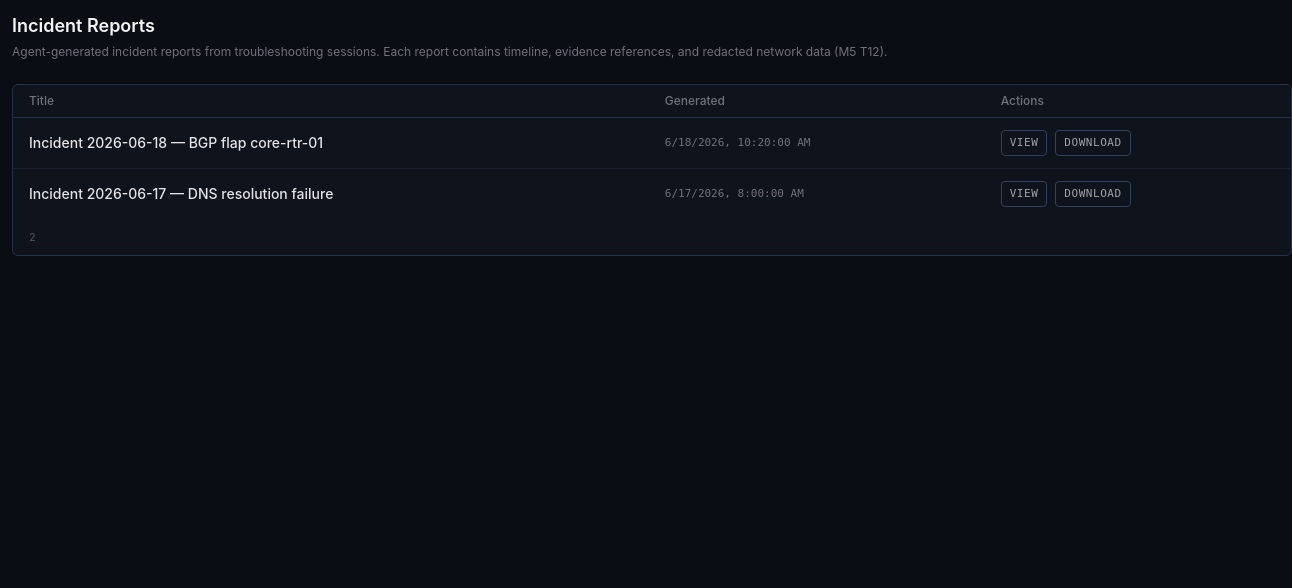
Test: IncidentReportsPage — inline view › closes the report panel when Close is clicked
Click the button "View" in the row of "6/18/2026, 10:20:00 AM": click(1024, 143) [1001, 130, 1047, 156]
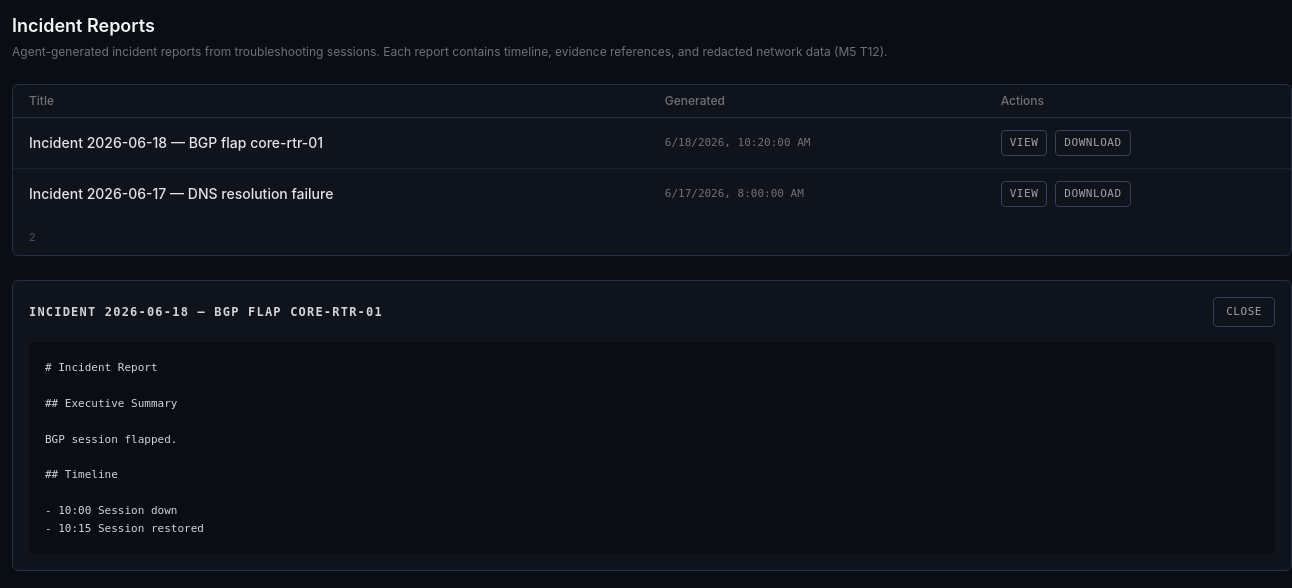
Expected: the element with test id "incident-report-panel" is shown, [12, 280, 1291, 571]
Click the button with test id "incident-panel-close": click(1244, 312) [1213, 297, 1275, 327]
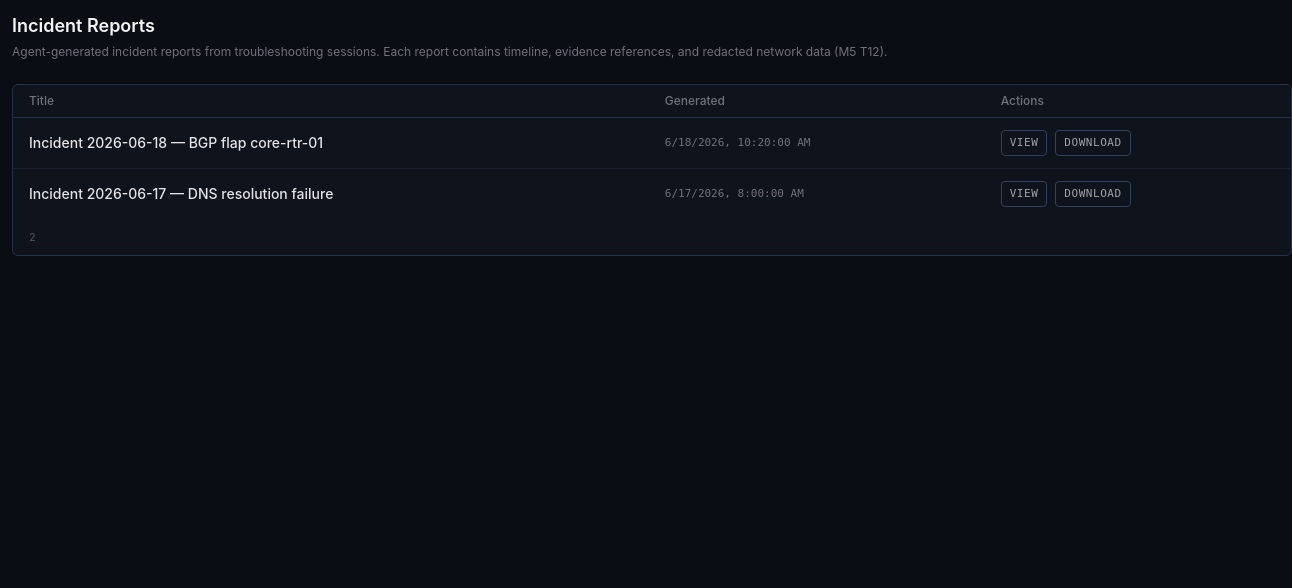
Expected: the element with test id "incident-report-panel" is gone
